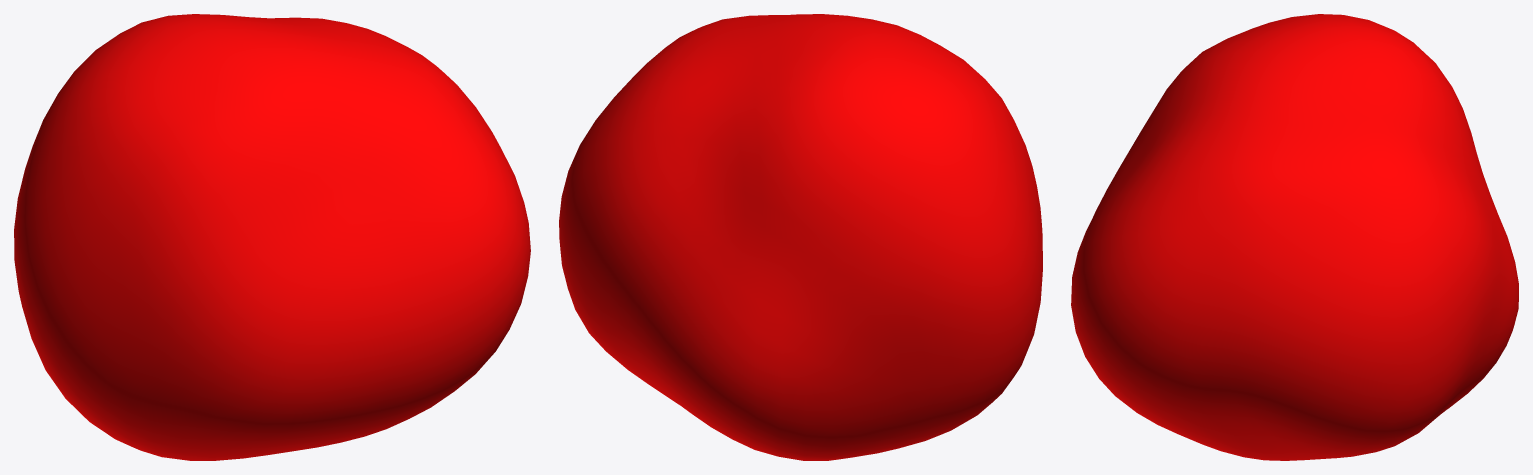
The model's file is vesicle_a.dae.
3 views of the same model, side by side, from view 1: azimuth 30°, elevation 25°; view 2: azimuth 150°, elevation 25°; view 3: azimuth 270°, elevation 25° (orthographic). The views are drawn at different scales.
Parts seen in each view (by area): view 1: vesicle_a; view 2: vesicle_a; view 3: vesicle_a.
Boxes of the visible parts, x1,y1,x2,y2 form: vesicle_a: (14,14,530,460); vesicle_a: (559,14,1042,460); vesicle_a: (1071,14,1518,460).
Bounding box in the file's own units: 435 × 382 × 400.
